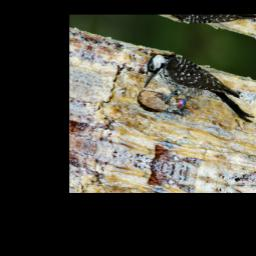Woodpecker: (139, 47, 256, 133)
